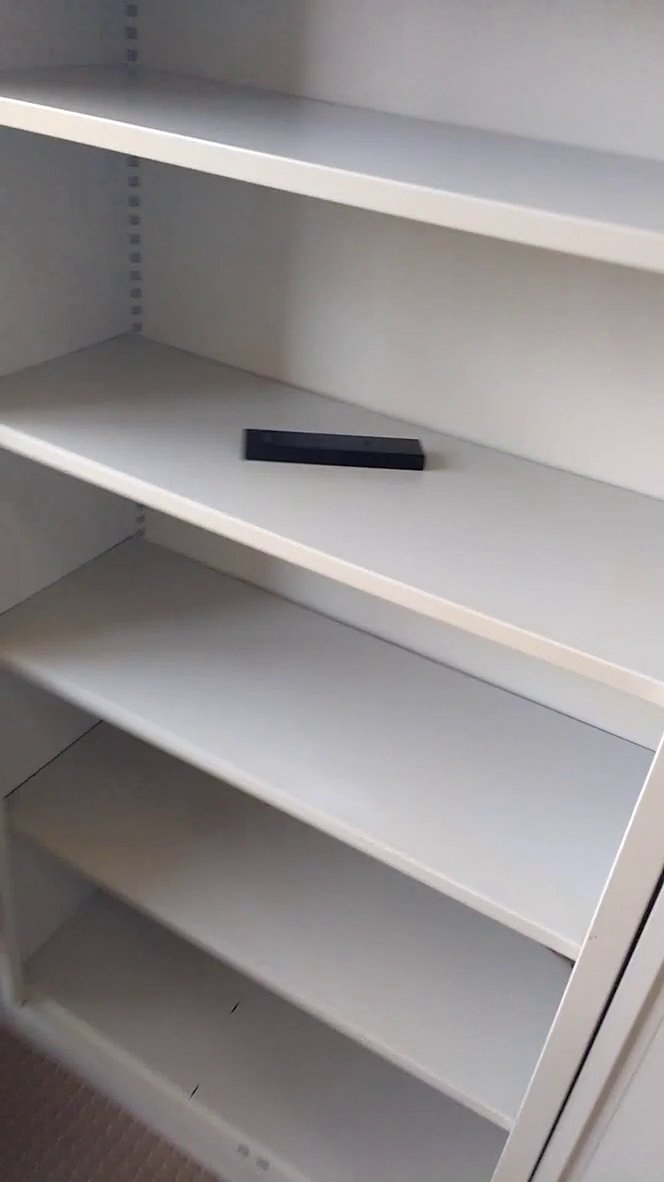remote: (219, 414, 443, 484)
